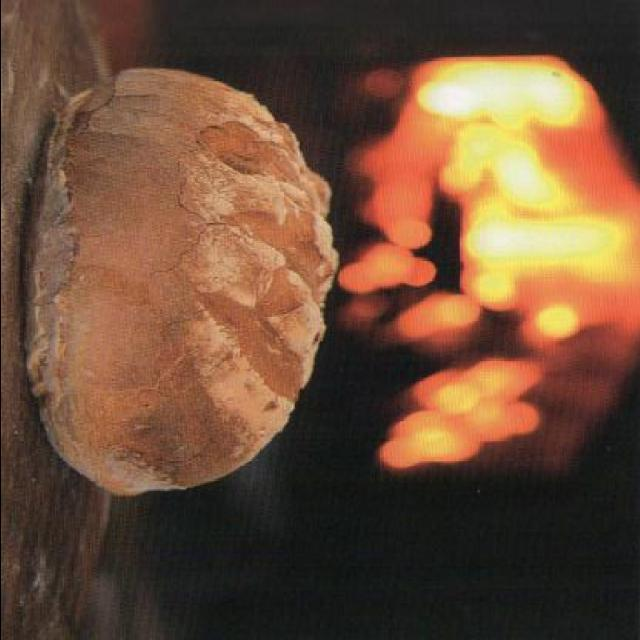Bread: (12, 63, 348, 489)
